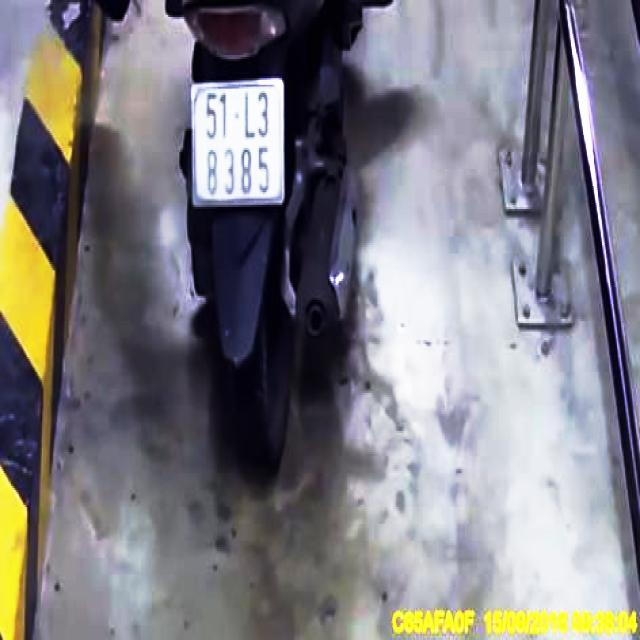license_plate: (192, 82, 287, 207)
